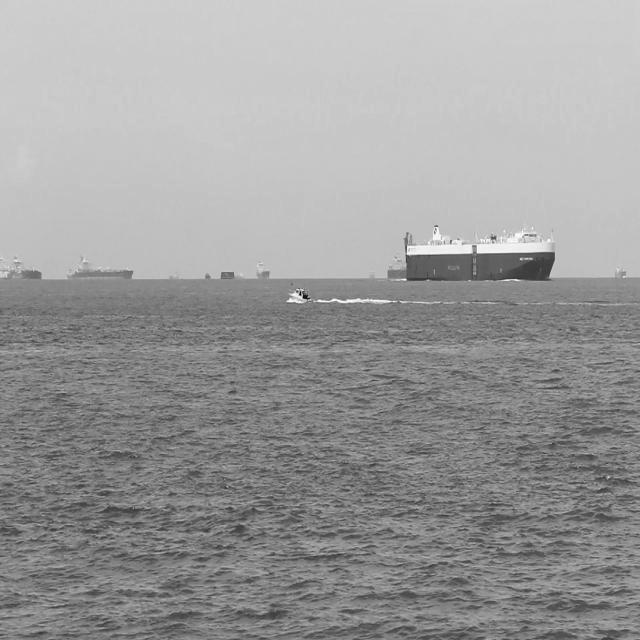ship: (402, 221, 560, 286), (61, 249, 136, 281), (0, 254, 47, 283), (282, 278, 316, 308), (252, 258, 272, 284), (384, 259, 406, 281), (612, 258, 630, 284)
